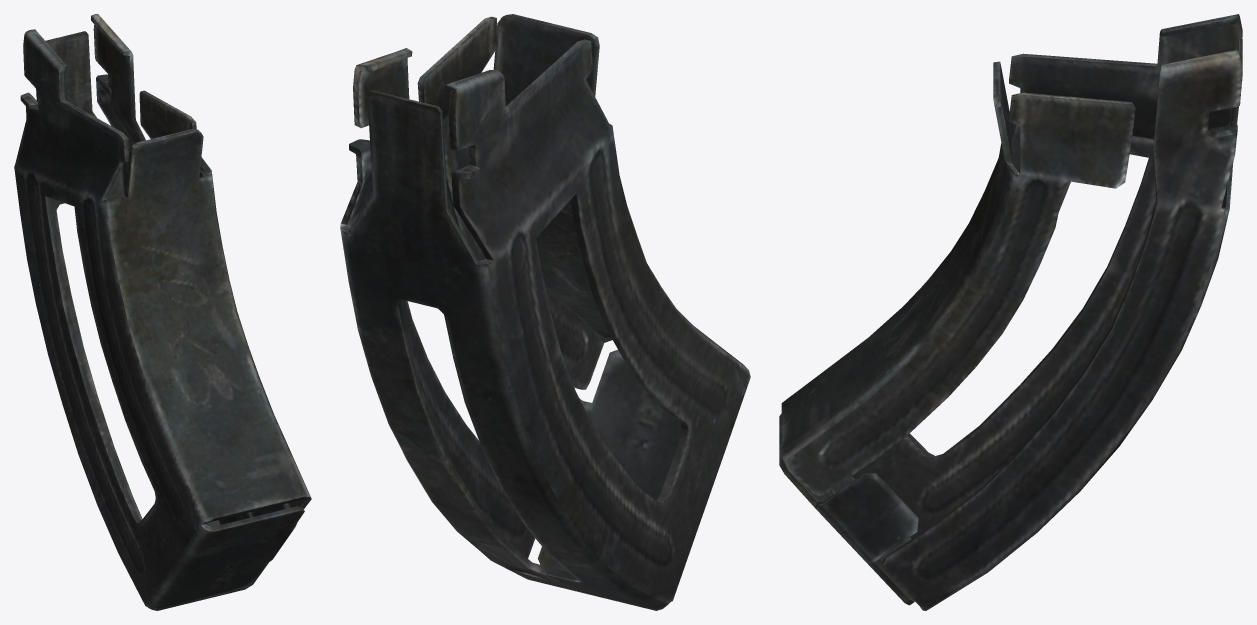
File: mag.obj
3 views of the same model, side by side, from view 1: azimuth 30°, elevation 25°; view 2: azimuth 150°, elevation 25°; view 3: azimuth 270°, elevation 25° (orthographic). The views are drawn at different scales.
Visible parts, largest first — view 1: wpn34_saiga_ammo_cart; view 2: wpn34_saiga_ammo_cart; view 3: wpn34_saiga_ammo_cart.
Part boxes in pixels (box(x1,y1,x2,y2)): wpn34_saiga_ammo_cart: box(14, 14, 311, 610); wpn34_saiga_ammo_cart: box(340, 14, 750, 610); wpn34_saiga_ammo_cart: box(779, 14, 1242, 610).
Bounding box in the file's own units: 0.0423 × 0.1731 × 0.132.
Materials: 1 (1 with a texture image).
